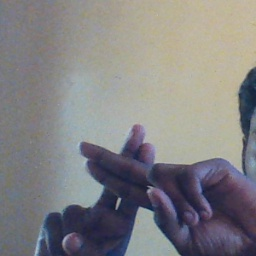F: (54, 118, 196, 236)
